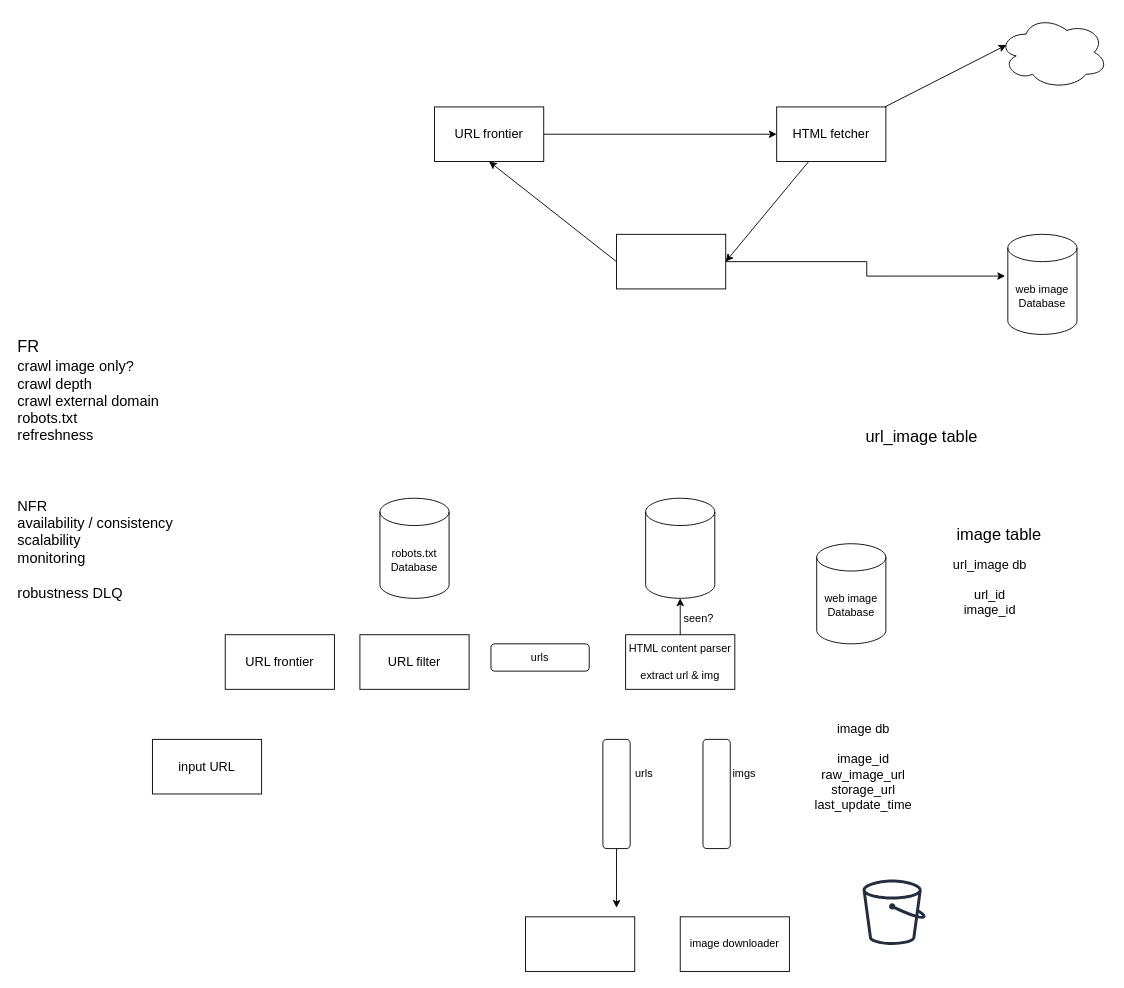
This 1124x988 diagram has some shape labels left out. The centre of each missing label's shape, as x and y in pixels:
"Bucket" goes at (x=893, y=911).
"extractor" goes at (x=671, y=261).
"internet" goes at (x=1053, y=52).
"URL Database" goes at (x=680, y=547).
"url worker" goes at (x=580, y=943).
